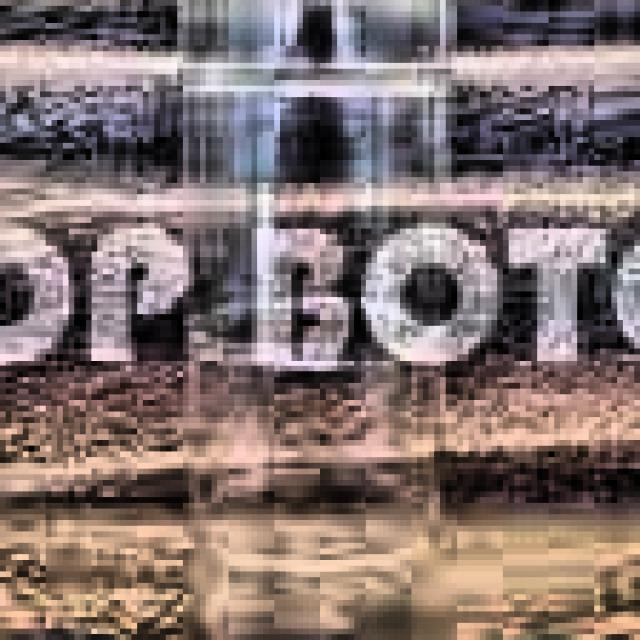plastic: (143, 0, 468, 640)
